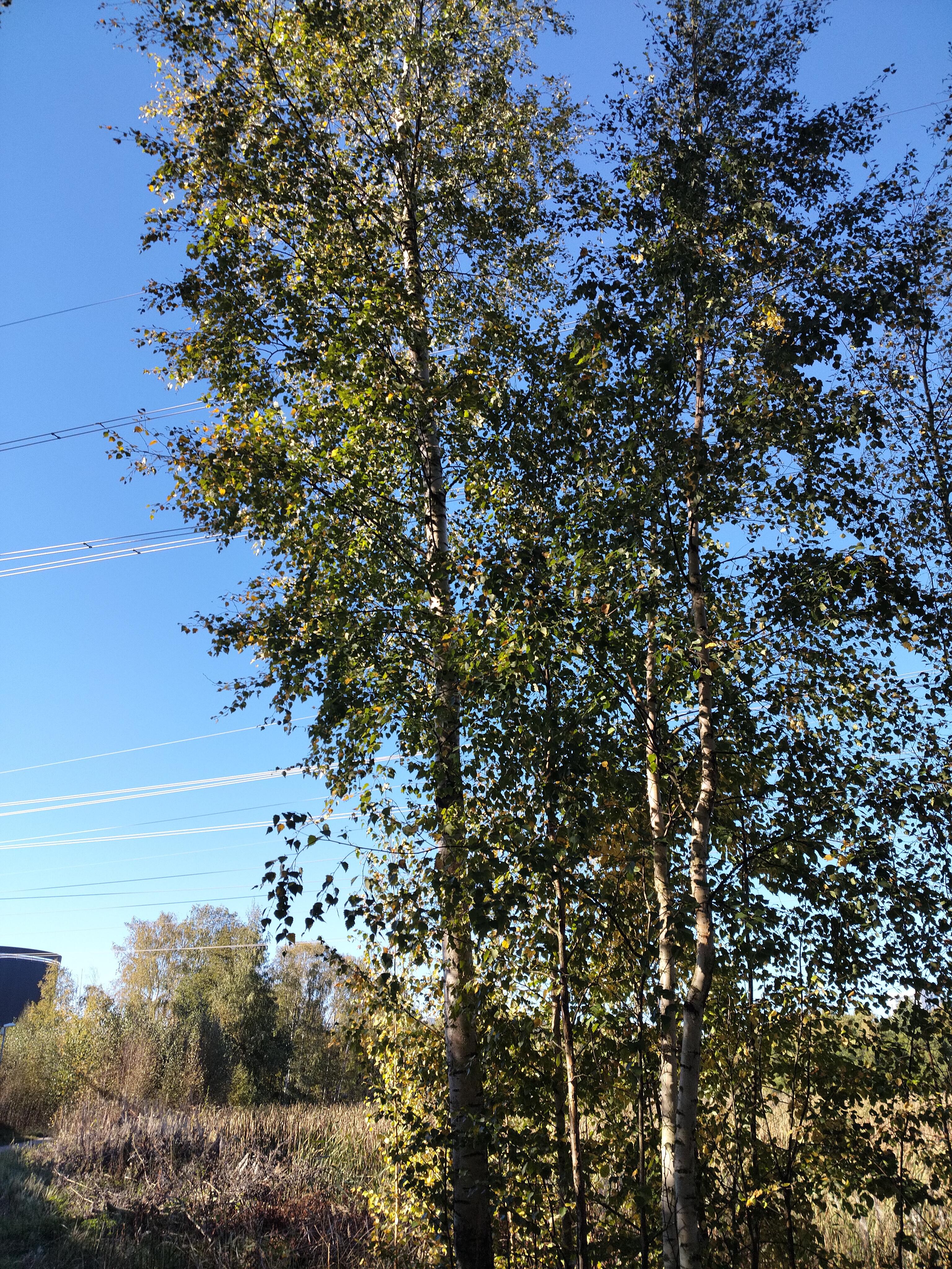Birch: (170, 0, 571, 1243), (540, 0, 890, 1255)
